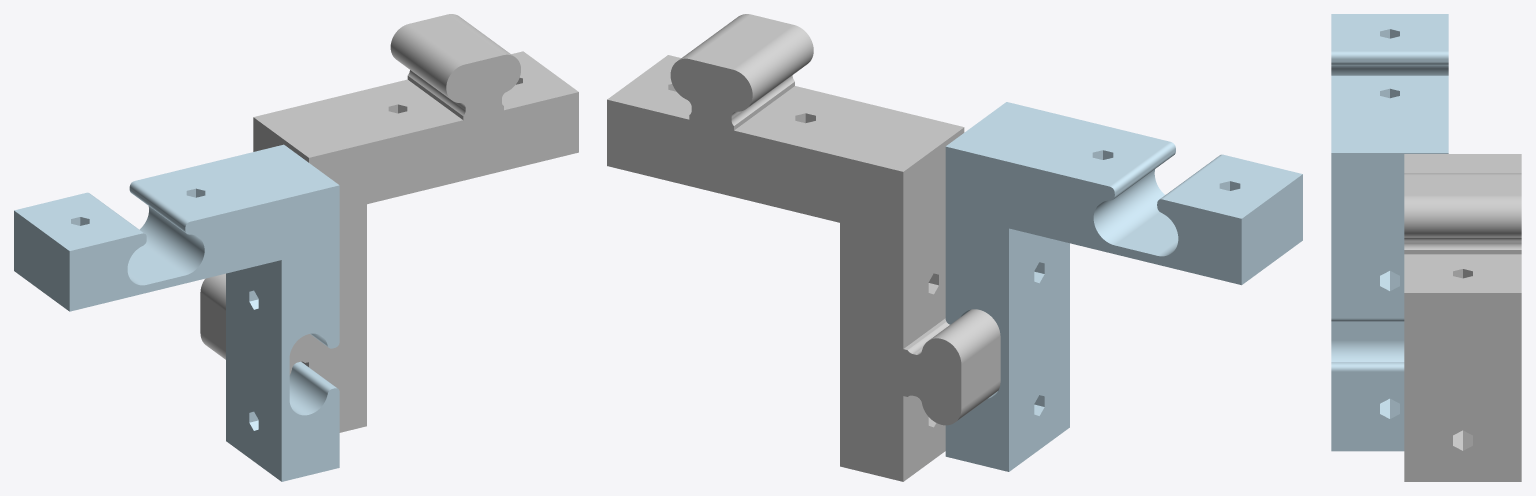
Rendered from Assemblage male-femelle.glb.
The picture shows the model from 3 angles, left to right: view 1: azimuth 30°, elevation 25°; view 2: azimuth 150°, elevation 25°; view 3: azimuth 270°, elevation 25°; orthographic projection. The views are drawn at different scales.
Visible parts, largest first — view 1: Part 1, Part 2; view 2: Part 2, Part 1; view 3: Part 2, Part 1.
Boxes of the visible parts, bbox=[...] form: Part 1: bbox=[14, 144, 339, 481]; Part 2: bbox=[200, 14, 578, 432]; Part 2: bbox=[607, 14, 1000, 481]; Part 1: bbox=[945, 102, 1302, 471]; Part 2: bbox=[1404, 154, 1521, 481]; Part 1: bbox=[1331, 14, 1448, 451].
Size of the model in its own units: 0.141 by 0.084 by 0.0405.
